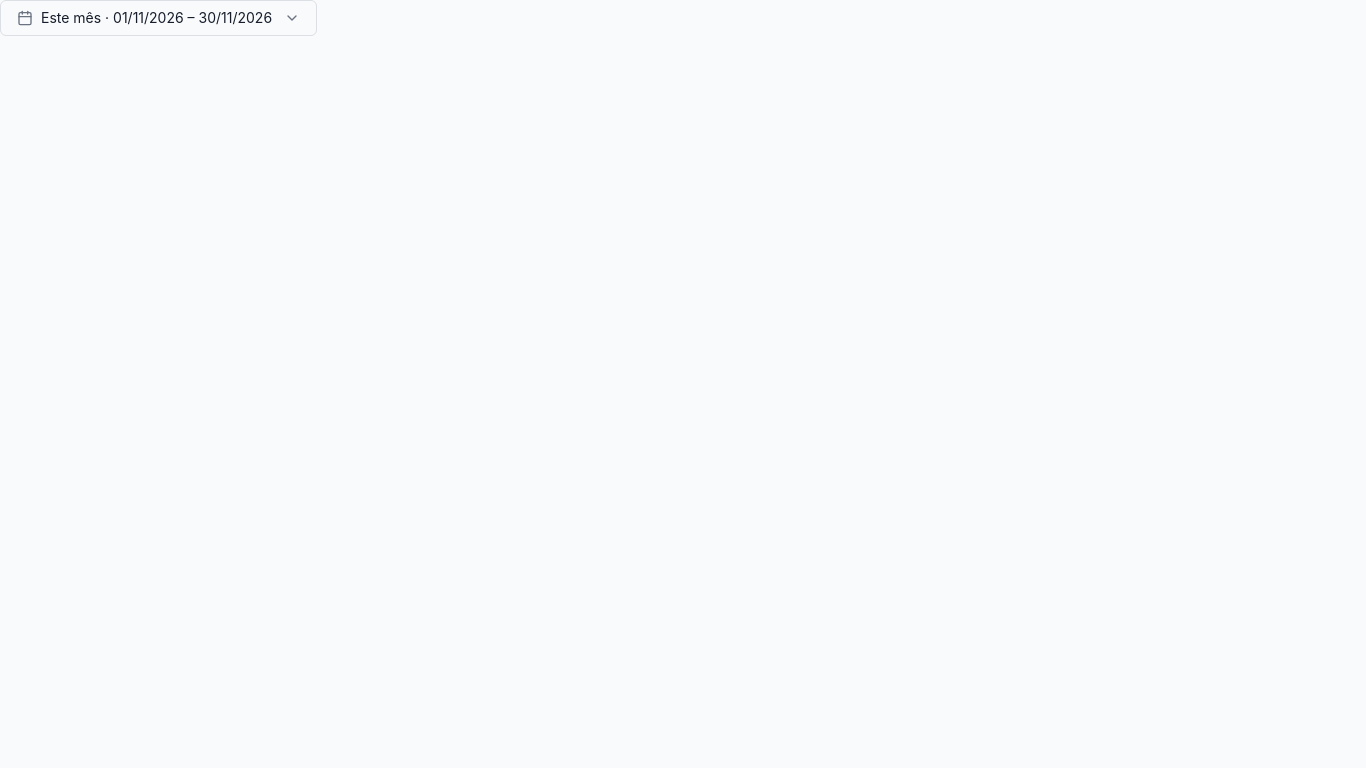
Test case: seletor de período — a tela › abre com as datas aplicadas nos campos e mostra os dias
Click the button "Este mês · 01/11/2026 – 30/11/2026".
click(159, 18)  # box x1=0 y1=0 x2=317 y2=36
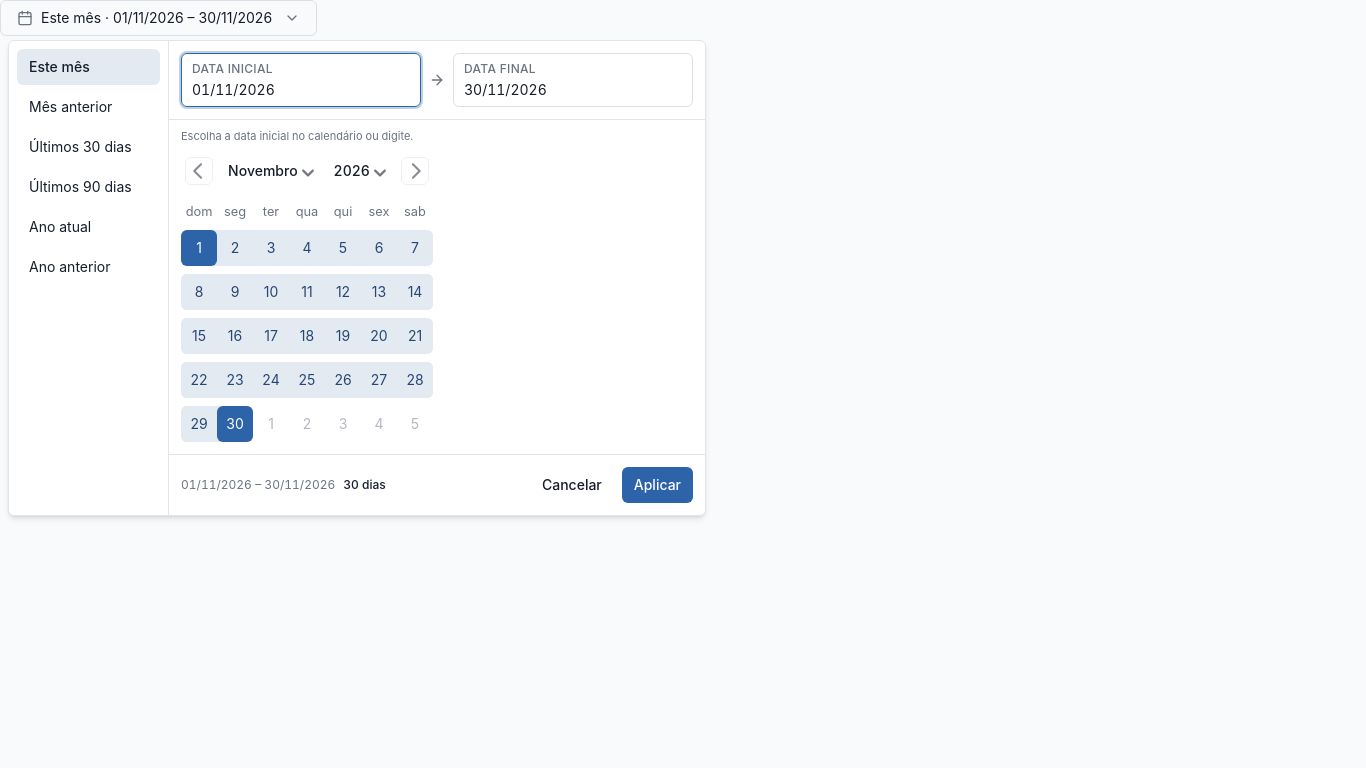
expect the field named "Data inicial" holds "01/11/2026": met, box x1=192 y1=80 x2=410 y2=100
expect the field named "Data final" holds "30/11/2026": met, box x1=464 y1=80 x2=682 y2=100
expect the text "30 dias" is shown: met, box x1=17 y1=129 x2=160 y2=165
